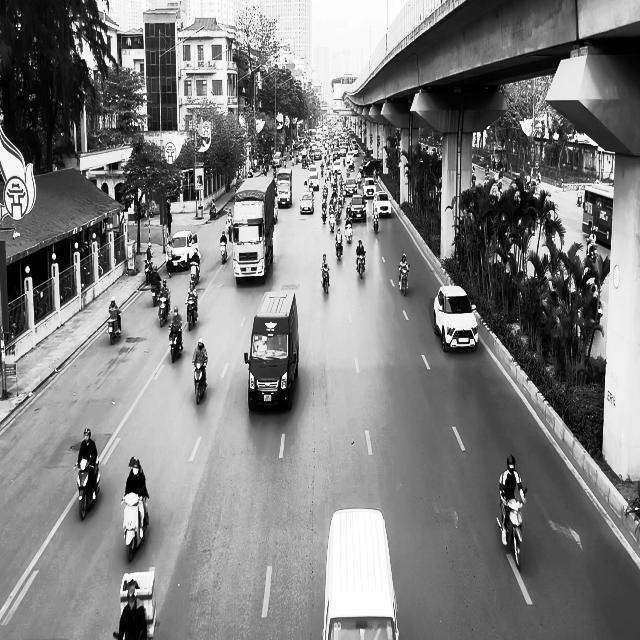bus: (232, 175, 277, 285), (582, 183, 613, 248)
car: (322, 508, 399, 639), (433, 284, 478, 352), (373, 192, 392, 218), (300, 192, 314, 214)
motorbike: (496, 486, 527, 570), (121, 492, 149, 562), (74, 456, 101, 520), (192, 357, 208, 404), (169, 322, 183, 362), (108, 309, 121, 345), (158, 290, 170, 326), (185, 298, 198, 331), (398, 265, 409, 296), (586, 237, 597, 263), (320, 267, 330, 293), (150, 281, 160, 306), (356, 253, 365, 279), (344, 219, 353, 243), (144, 259, 152, 283), (335, 238, 343, 260), (220, 240, 227, 264), (372, 208, 379, 232)
truck: (244, 290, 299, 411)
